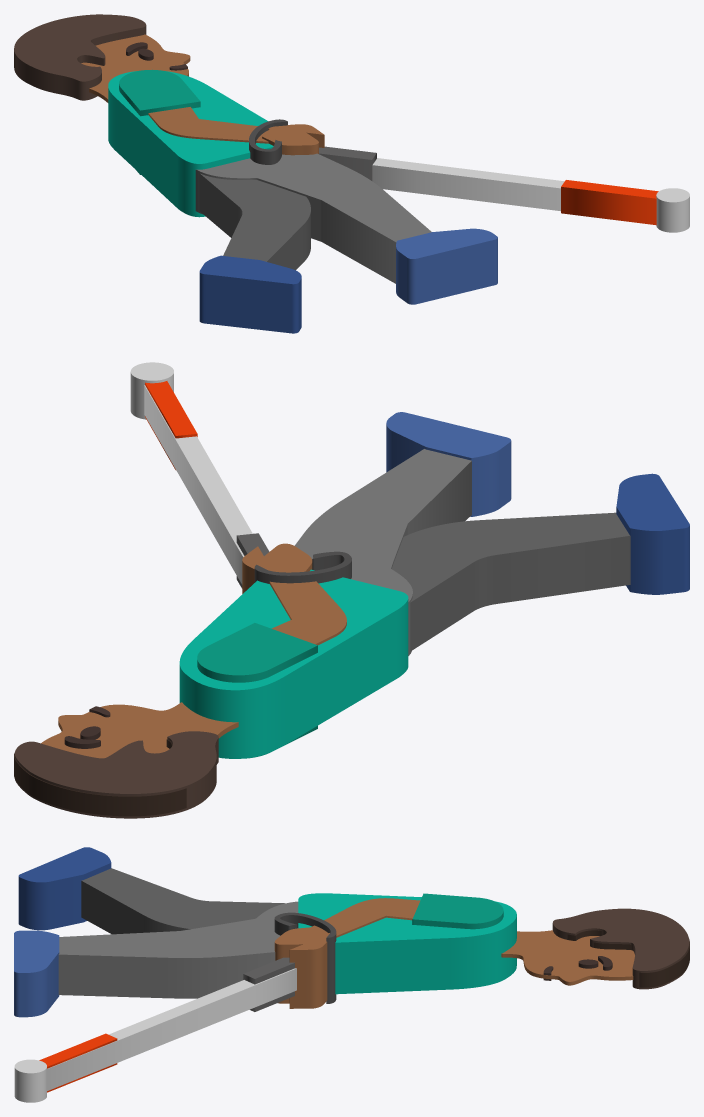
The model's file is emoji_u1f468_1f3fe_200d_1f9af_200d_27a1.glb.
3 views of the same model, one above another, from view 1: azimuth 30°, elevation 25°; view 2: azimuth 150°, elevation 25°; view 3: azimuth 270°, elevation 25° (orthographic). The views are drawn at different scales.
Parts seen in each view (by area): view 1: emoji_u1f468_1f3fe_200d_1f9af_200d_27a1; view 2: emoji_u1f468_1f3fe_200d_1f9af_200d_27a1; view 3: emoji_u1f468_1f3fe_200d_1f9af_200d_27a1.
Boxes of the visible parts, box(x1,y1,x2,y2) form: emoji_u1f468_1f3fe_200d_1f9af_200d_27a1: box(14, 14, 689, 333); emoji_u1f468_1f3fe_200d_1f9af_200d_27a1: box(14, 362, 689, 818); emoji_u1f468_1f3fe_200d_1f9af_200d_27a1: box(14, 847, 689, 1102).
Bounding box in the file's own units: 0.0253 × 0.0036 × 0.0333.
